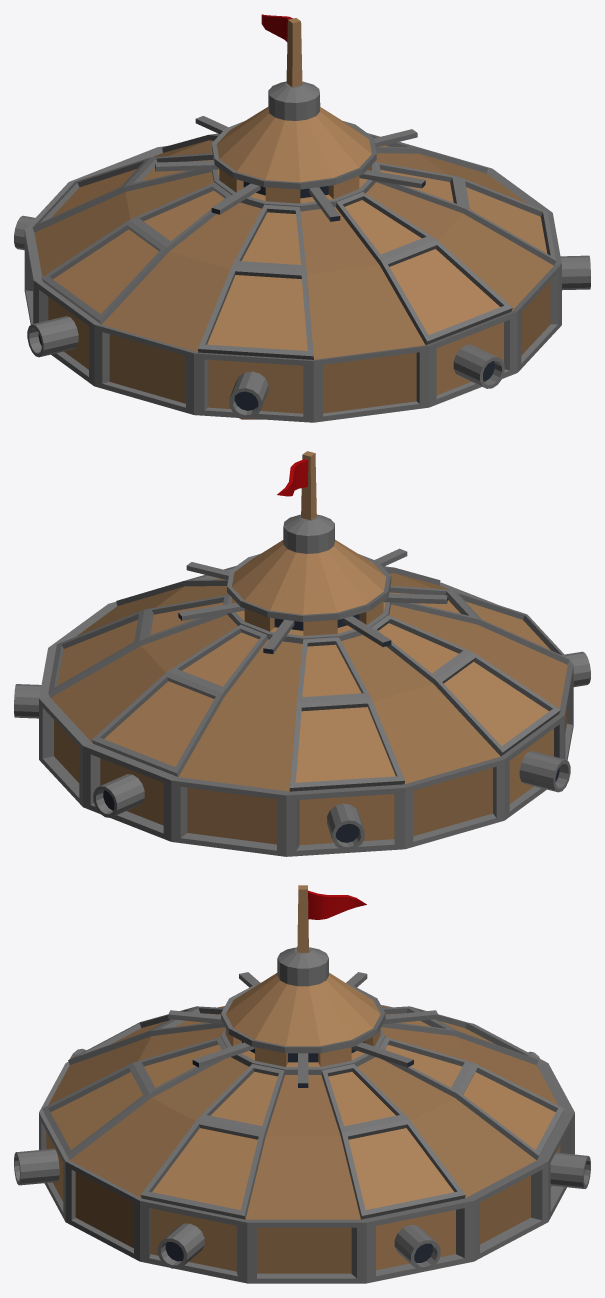
File: enemy.glb
3 renders of one model, top to bottom at view 1: azimuth 30°, elevation 25°; view 2: azimuth 150°, elevation 25°; view 3: azimuth 270°, elevation 25°, orthographic.
Visible parts, largest first — view 1: Circle.009; view 2: Circle.009; view 3: Circle.009.
Boxes of the visible parts, box(x1,y1,x2,y2) form: Circle.009: box(14, 14, 590, 422); Circle.009: box(14, 451, 590, 856); Circle.009: box(14, 885, 590, 1283).
Bounding box in the file's own units: 1.7 × 1.06 × 1.74.
